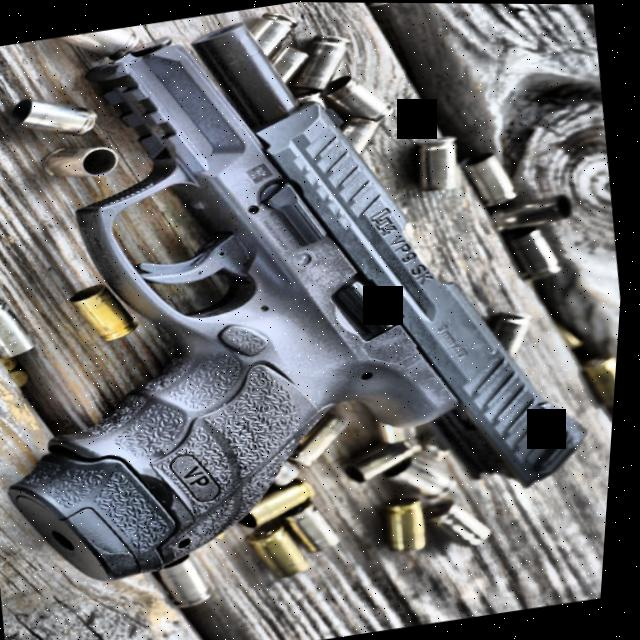HKVP9: (0, 0, 627, 600)
